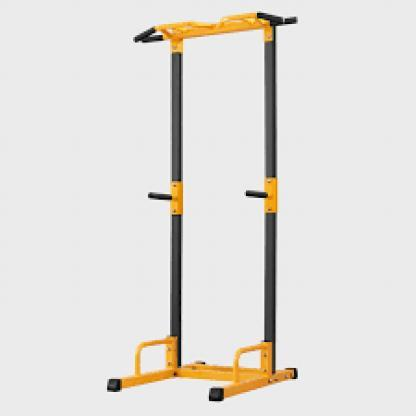chinning dipping: (106, 11, 300, 401)
